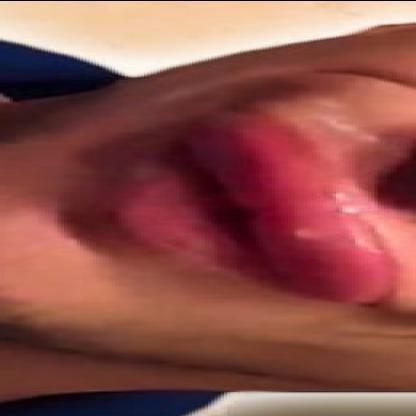Wasp: (196, 110, 406, 312)
